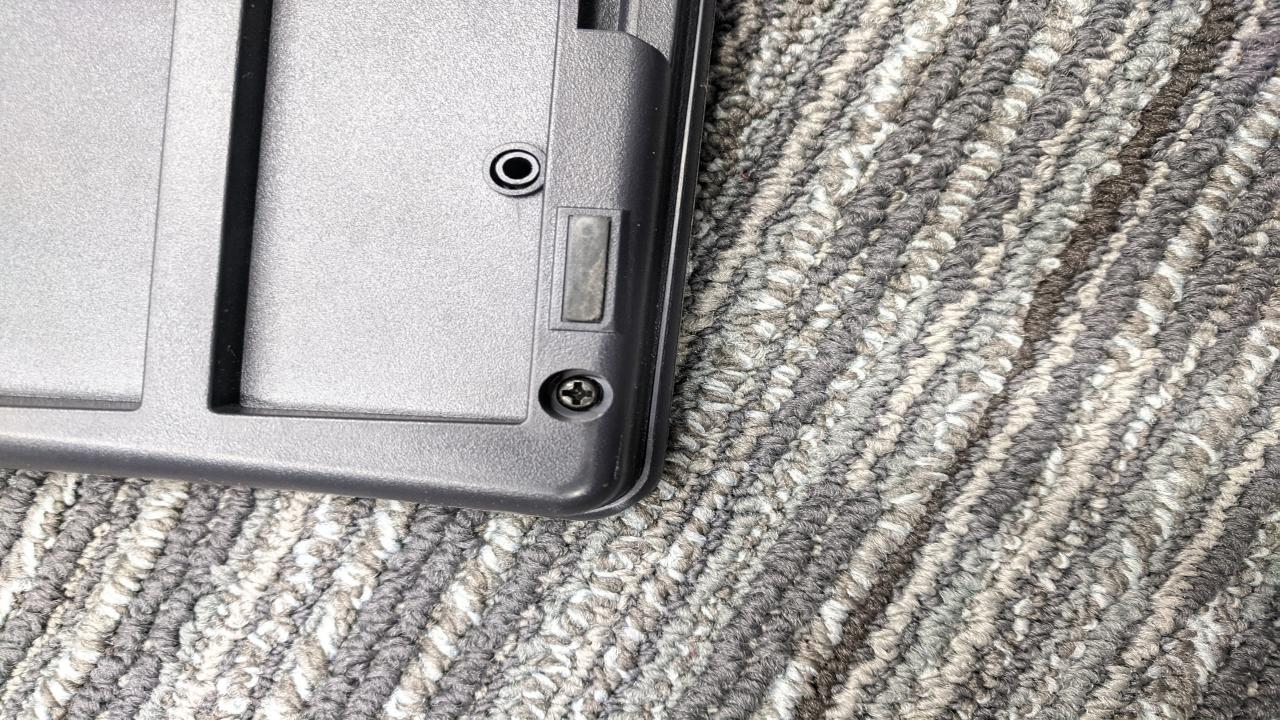CRS: (557, 376, 606, 413)
